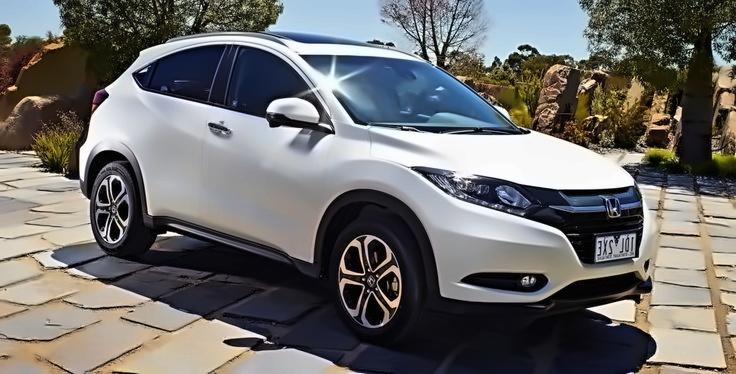Car hood: (365, 124, 636, 192)
Driver-s door - -F-R-: (195, 21, 327, 281)
Fender - -F-R-: (297, 113, 409, 260)
Fender - -R-R-: (86, 60, 148, 161)
Front bumper: (405, 204, 663, 316)
Headlight - -R-: (406, 164, 548, 222)
Passenger-s door - -R-R-: (129, 23, 233, 241)
Rear bumper: (73, 139, 100, 197)
Rear light - -R-: (87, 86, 109, 116)
Side bumper - -R-: (139, 201, 326, 284)
Side mirror - -R-: (264, 94, 336, 138)
